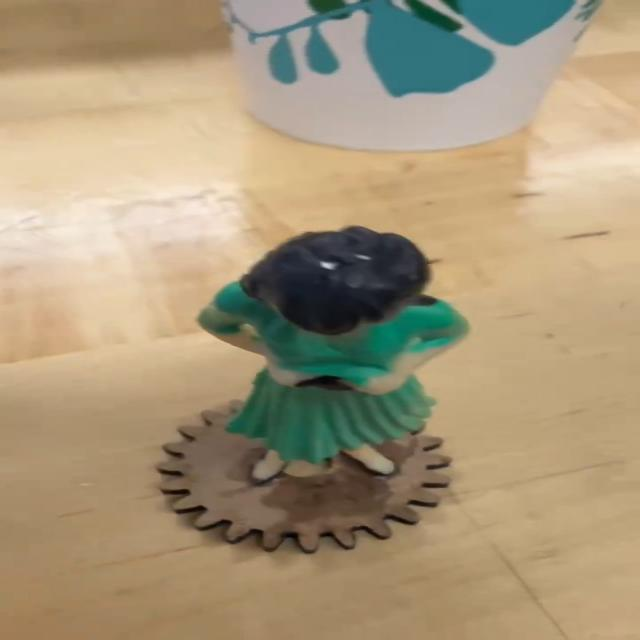Authorized: (125, 191, 538, 578)
